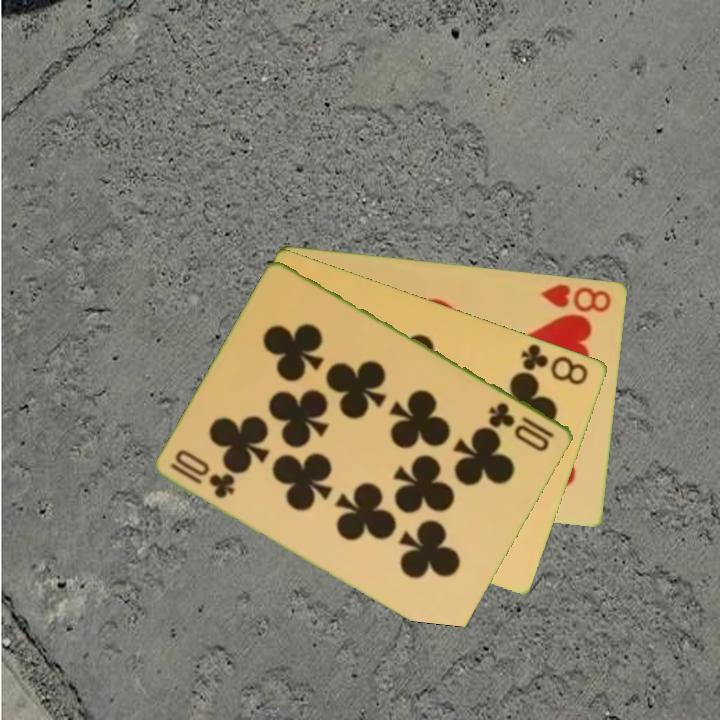10c: (485, 398, 559, 454), (167, 459, 239, 501)
8c: (518, 340, 592, 388)
8h: (537, 280, 615, 315)
